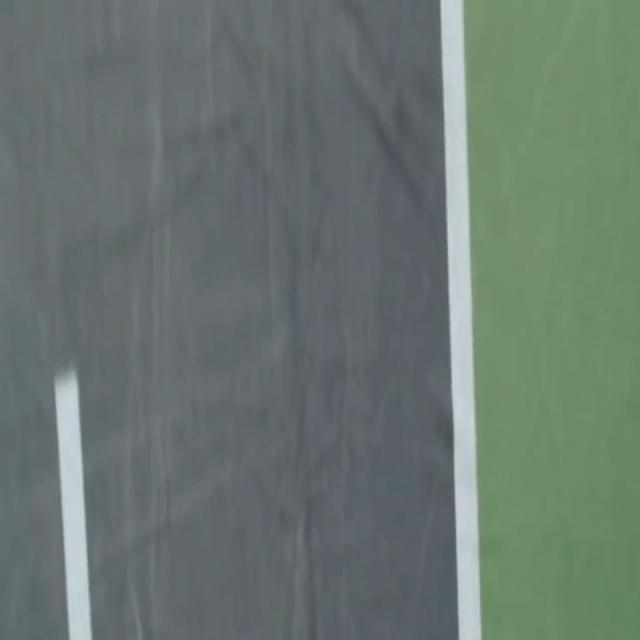center: (55, 369, 92, 639)
right: (440, 0, 481, 639)
